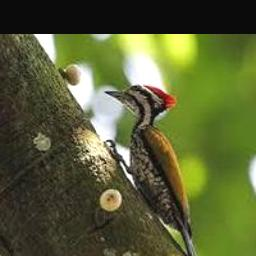Woodpecker: (104, 85, 202, 256)
